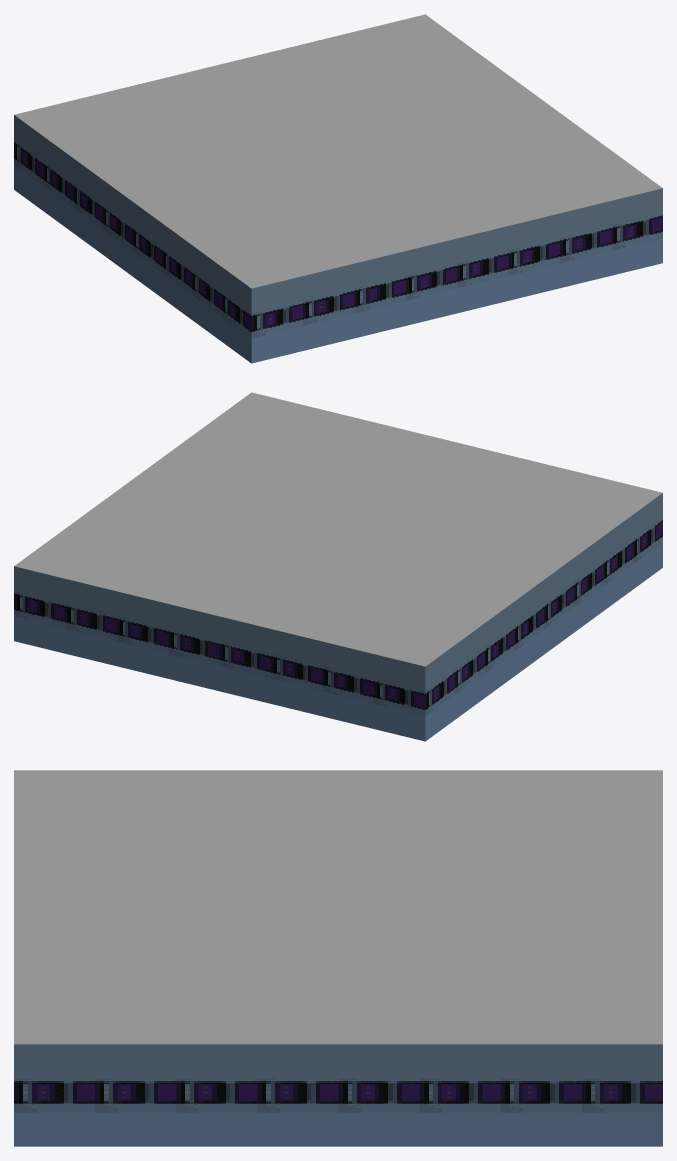
Rendered from METAL.obj.
The picture shows the model from 3 angles, top to bottom: view 1: azimuth 30°, elevation 25°; view 2: azimuth 150°, elevation 25°; view 3: azimuth 270°, elevation 25°; orthographic projection. The views are drawn at different scales.
Parts seen in each view (by area): view 1: Plane, Plane.002, Plane.001; view 2: Plane, Plane.004, Plane.001; view 3: Plane, Plane.003.
Boxes of the visible parts, x1=… form: Plane: x1=14, y1=14, x2=662, y2=288; Plane.002: x1=251, y1=188, x2=662, y2=363; Plane.001: x1=14, y1=115, x2=251, y2=363; Plane: x1=14, y1=392, x2=662, y2=666; Plane.004: x1=14, y1=566, x2=425, y2=741; Plane.001: x1=425, y1=493, x2=662, y2=741; Plane: x1=14, y1=770, x2=662, y2=1044; Plane.003: x1=14, y1=1044, x2=662, y2=1146.
Size of the model in its own units: 8 by 1.39 by 8.
4 materials, 3 textured.
